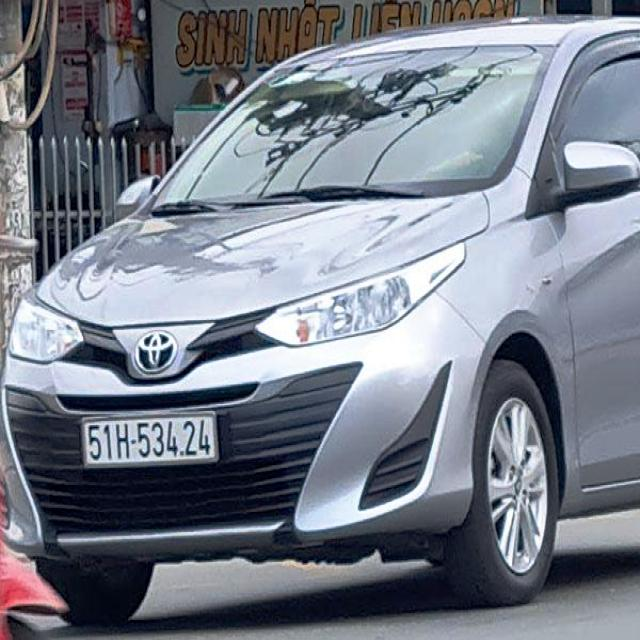license_plate: (84, 412, 219, 467)
